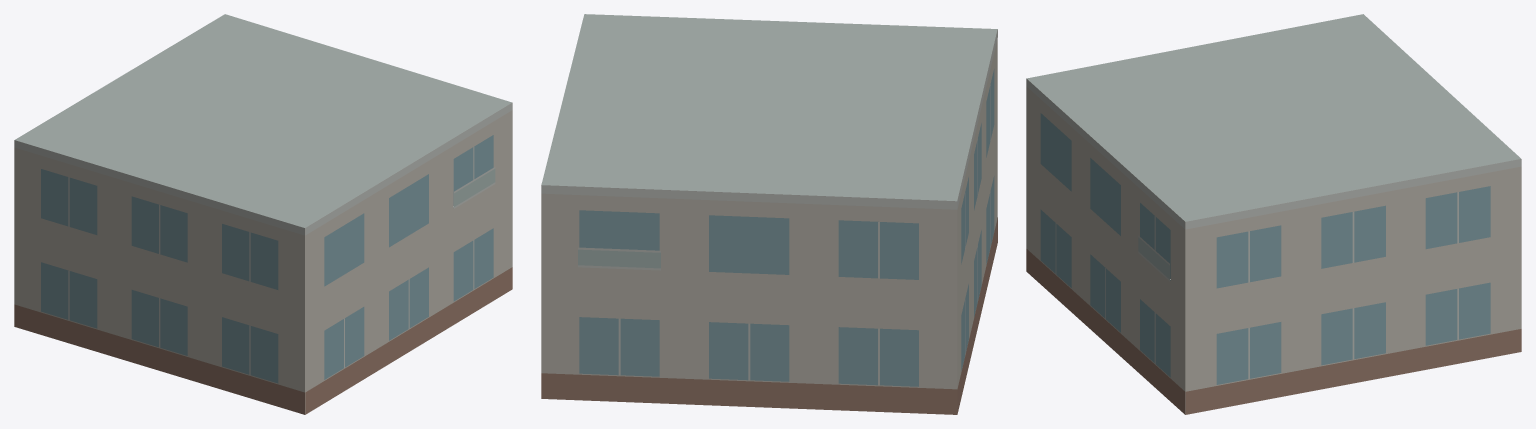
Rendered from survey-upis-32845529.glb.
3 views of the same model, side by side, from view 1: azimuth 30°, elevation 25°; view 2: azimuth 150°, elevation 25°; view 3: azimuth 270°, elevation 25° (orthographic). The views are drawn at different scales.
Visible parts, largest first — view 1: survey-upis-32845529.tmp; view 2: survey-upis-32845529.tmp; view 3: survey-upis-32845529.tmp.
Boxes of the visible parts, x1,y1,x2,y2 form: survey-upis-32845529.tmp: [14, 14, 512, 414]; survey-upis-32845529.tmp: [541, 14, 997, 414]; survey-upis-32845529.tmp: [1026, 14, 1521, 414].
Bounding box in the file's own units: 14.1 × 6.1 × 14.19.
